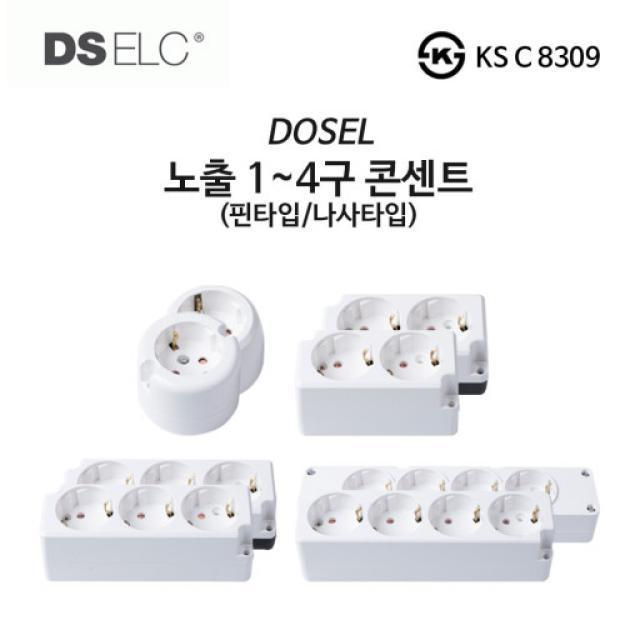typeb: (287, 440, 607, 605), (30, 448, 285, 602), (267, 288, 513, 443), (102, 276, 257, 424)
